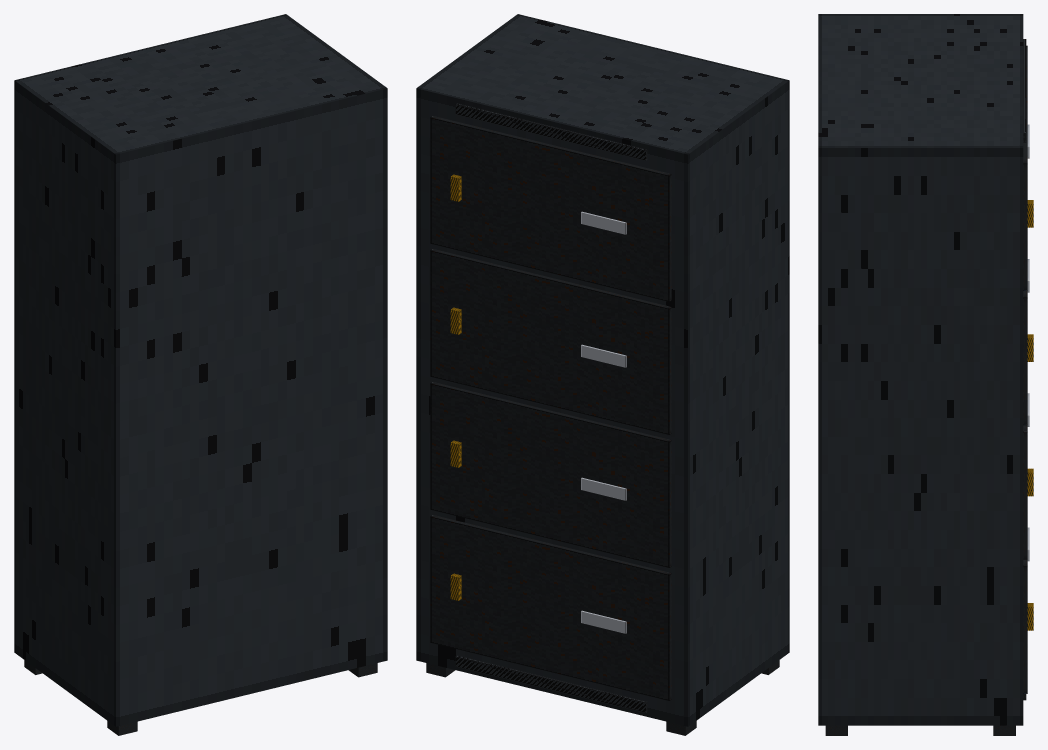
Rendered from food_storage_unit.glb.
3 views of the same model, side by side, from view 1: azimuth 30°, elevation 25°; view 2: azimuth 150°, elevation 25°; view 3: azimuth 270°, elevation 25° (orthographic).
Parts seen in each view (by area): view 1: food_storage_unit; view 2: food_storage_unit; view 3: food_storage_unit.
Part boxes in pixels (x1,y1,x2,y2): food_storage_unit: [14, 14, 387, 735]; food_storage_unit: [416, 14, 789, 735]; food_storage_unit: [818, 14, 1033, 735].
Bounding box in the file's own units: 0.85 × 1.75 × 0.578.
1 material, 1 textured.
